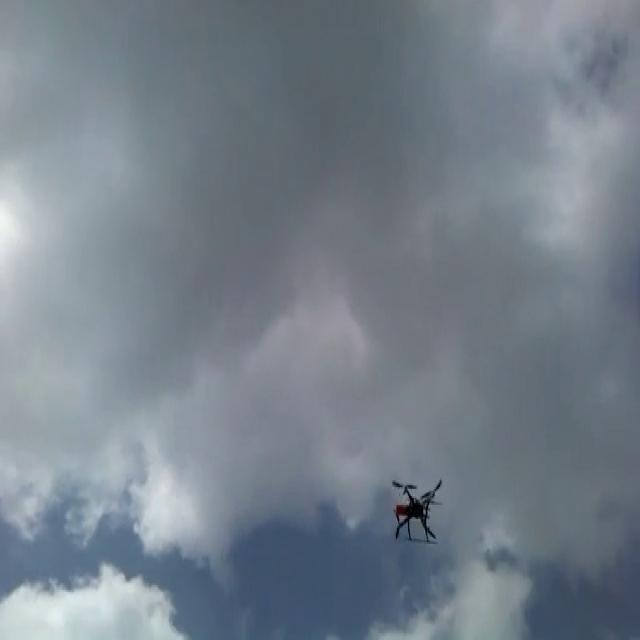drone: (388, 466, 449, 548)
